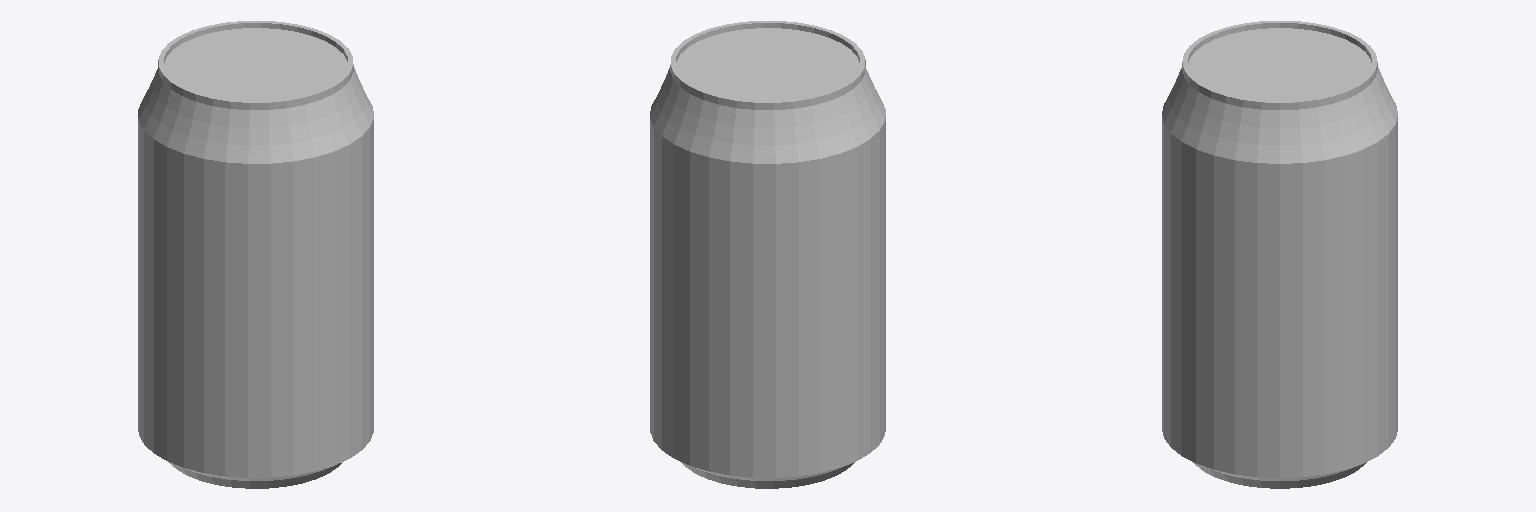
Rendered from DrinkCan.obj.
3 renders of one model, left to right at view 1: azimuth 30°, elevation 25°; view 2: azimuth 150°, elevation 25°; view 3: azimuth 270°, elevation 25°, orthographic.
Parts seen in each view (by area): view 1: Cylinder; view 2: Cylinder; view 3: Cylinder.
Boxes of the visible parts, <box> form: Cylinder: <box>138,21,373,488</box>; Cylinder: <box>650,21,885,488</box>; Cylinder: <box>1162,21,1397,488</box>.
Size of the model in its own units: 2 by 3.62 by 2.